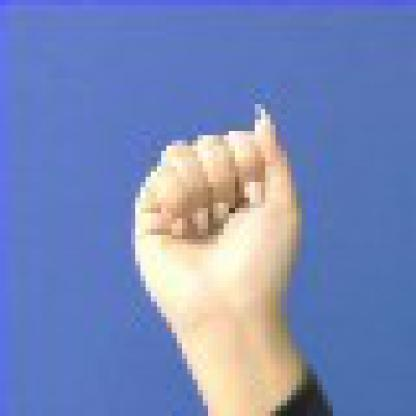zero: (103, 74, 371, 377)
